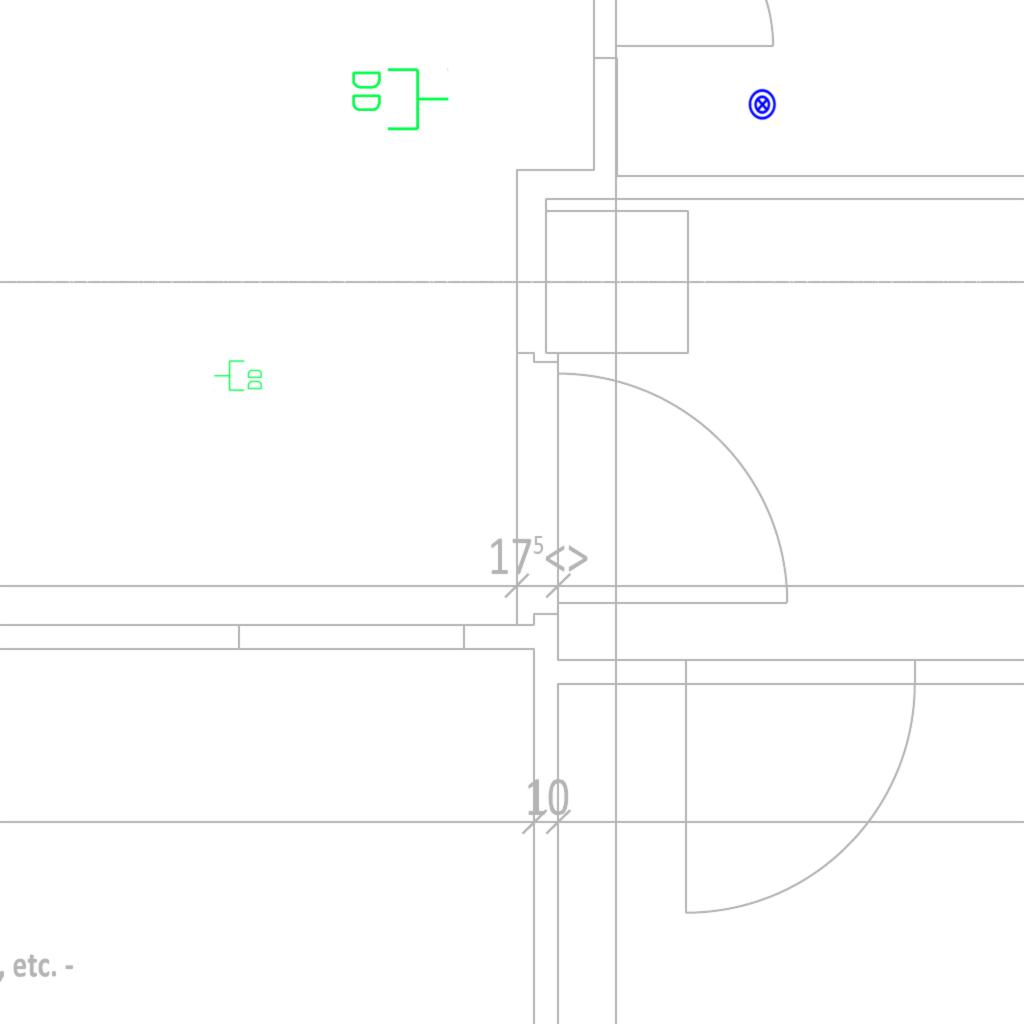Datenanschluss_zweifach: (348, 64, 451, 133), (213, 359, 264, 393)
Taster_beleuchtet: (746, 88, 779, 121)
